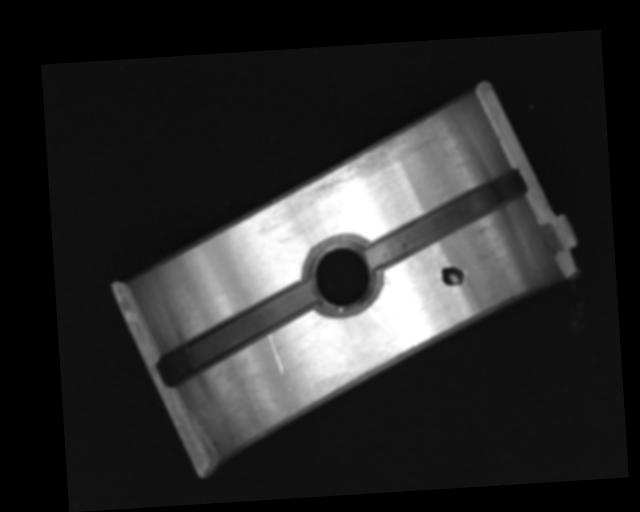blot: (440, 265, 468, 287)
gap: (156, 280, 318, 387), (362, 170, 530, 269)
hole: (304, 233, 381, 319)
nick: (268, 332, 284, 375)
scratch: (287, 118, 436, 199)
